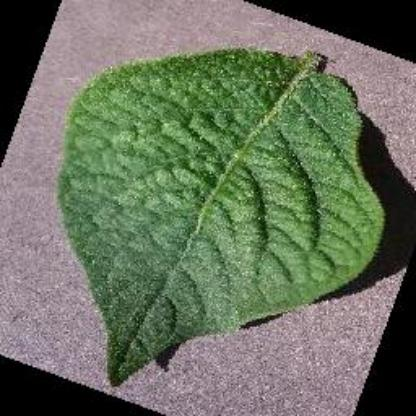Healthy-plant: (58, 43, 388, 390)
